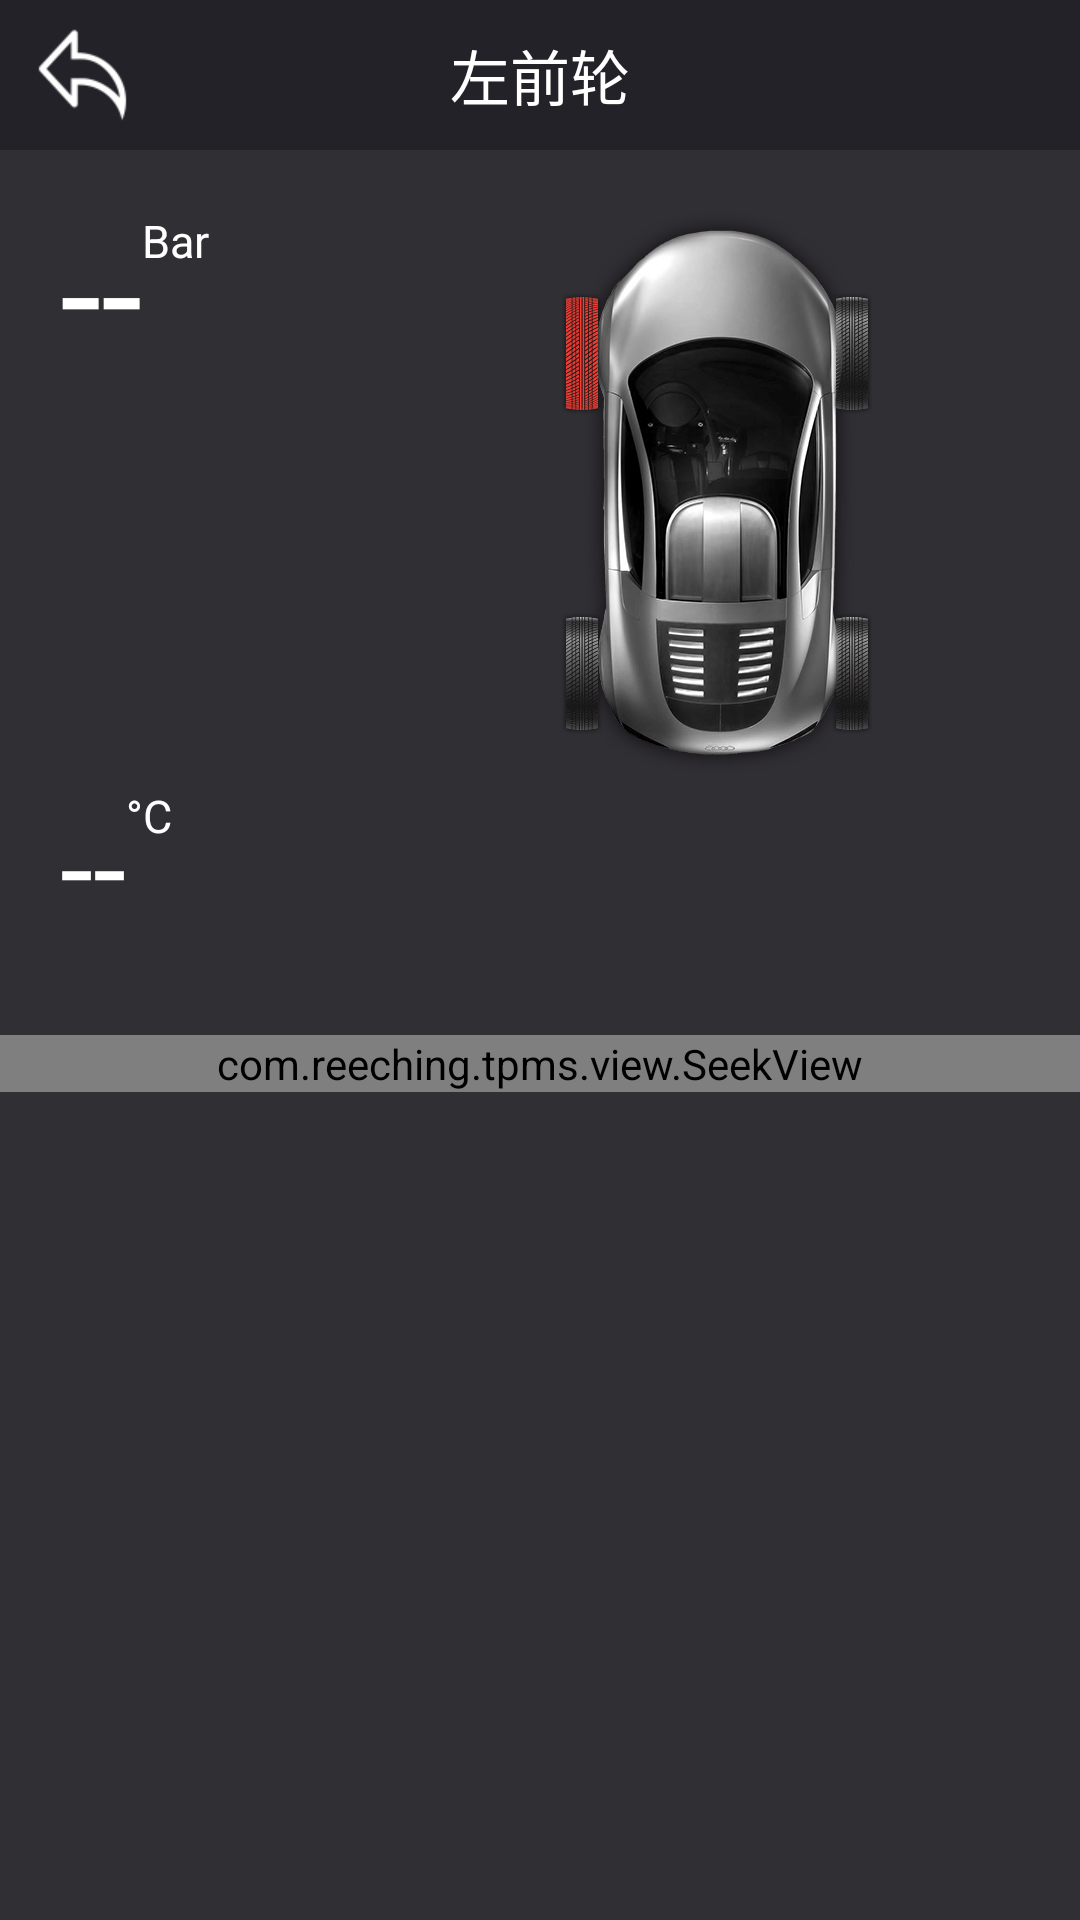

Screen size 1080 × 1920. Icon name, then its center in pixels as point (x, y):
check back: point (82, 74)
